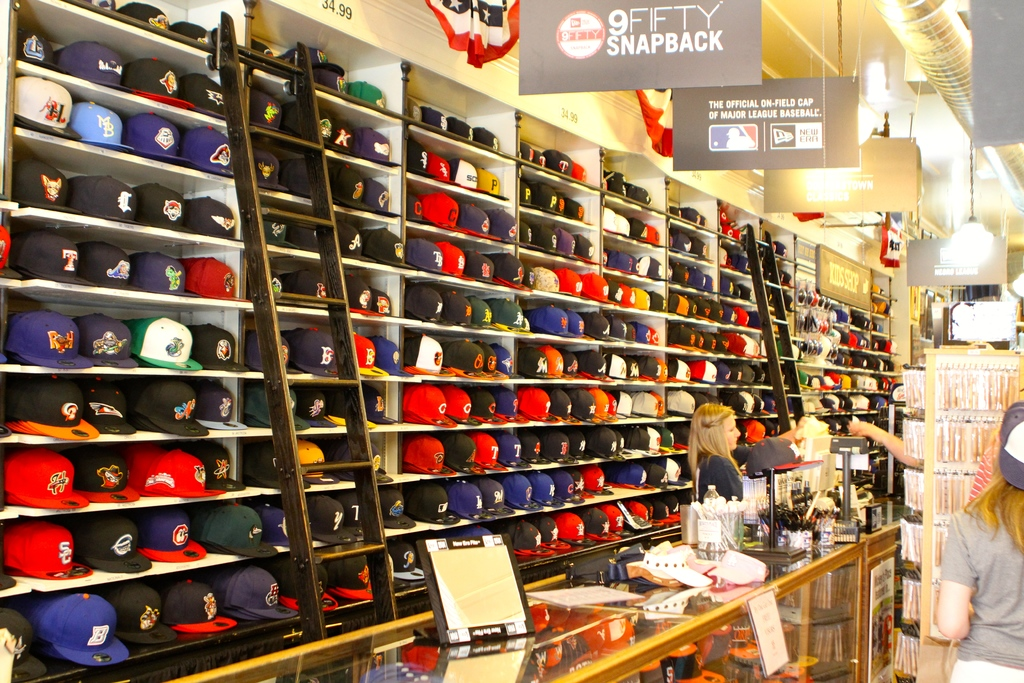Person: (937, 399, 1024, 683), (687, 403, 805, 502)
